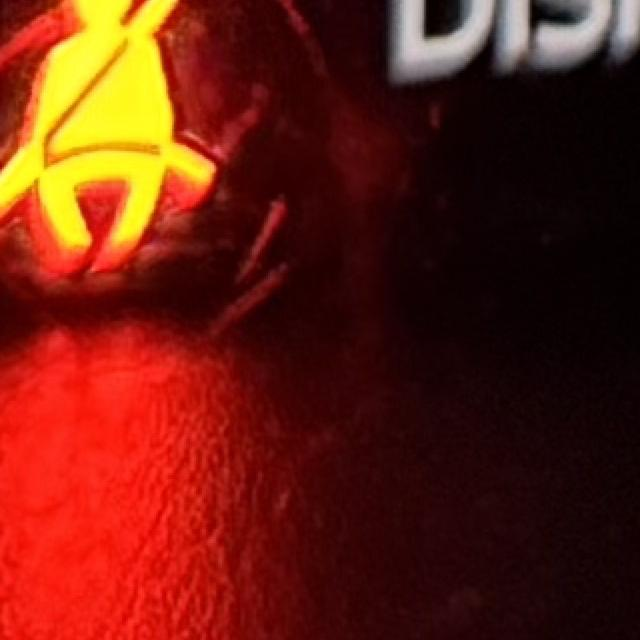Passenger Seatbelt Indicator: (1, 1, 216, 253)
